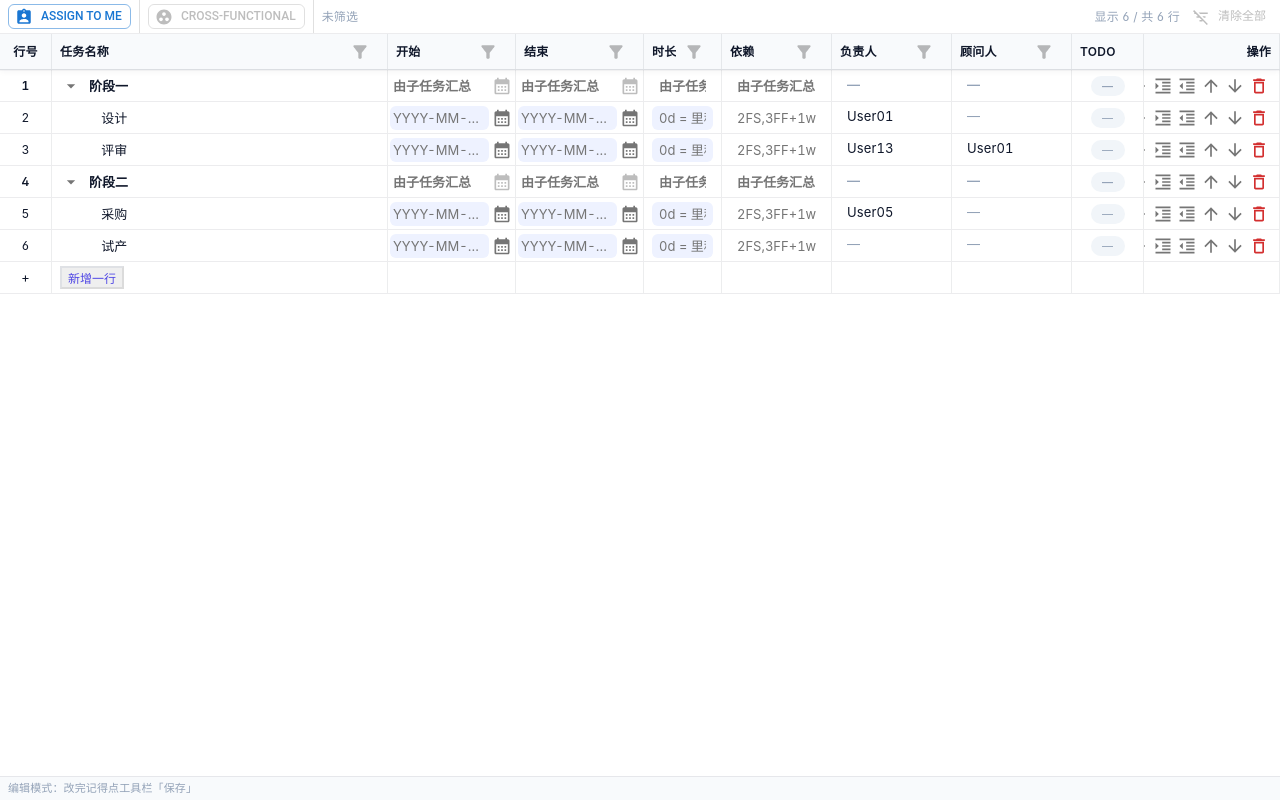
U03·筛选 UI › 筛选生效时禁止插入新行（新行会被立刻隐藏，像没反应）
The image size is (1280, 800).
Expected: the button "新增一行" is shown, [60,266,124,289]
Click the button "Assign to me": (69, 16) [8,4,131,29]
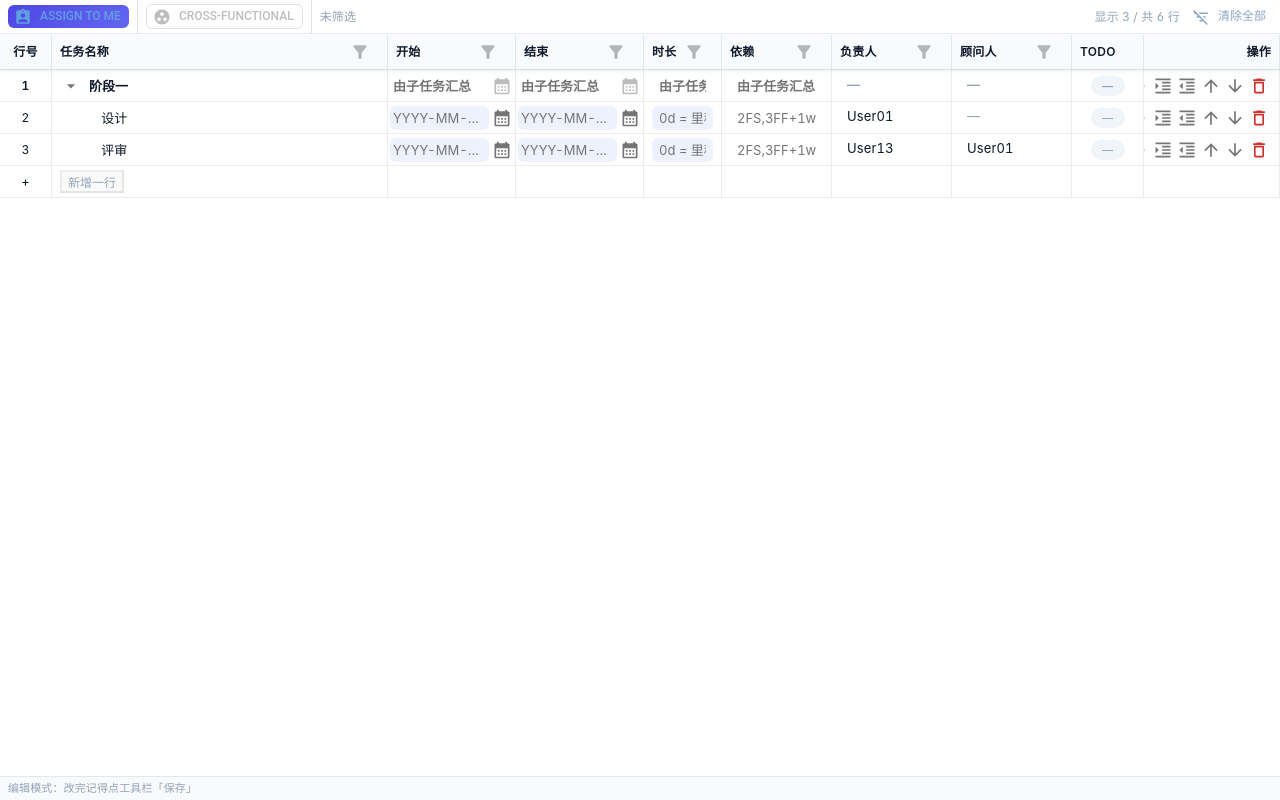
Now the button "新增一行" is disabled, box [60,170,124,193]
